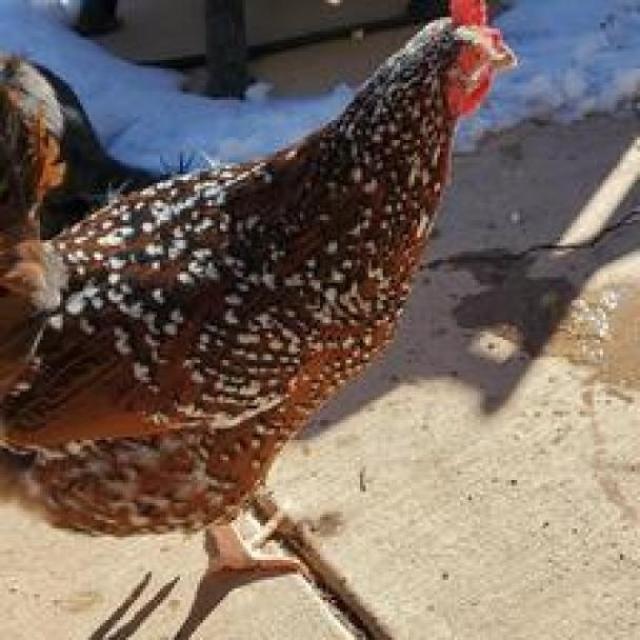Chicken: (3, 16, 541, 606)
